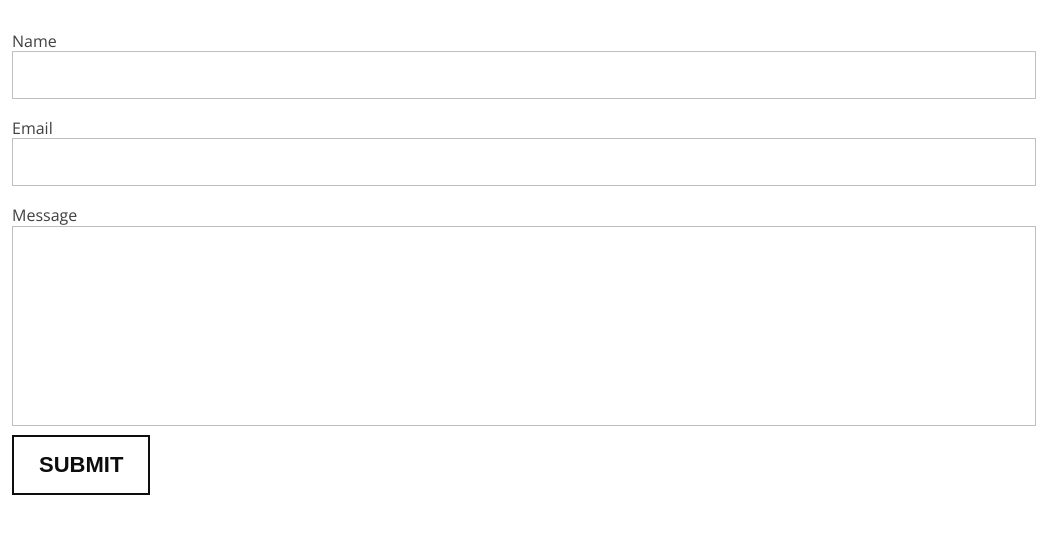
<ContactForm/> › throws an error when no email or message are provided
The image size is (1048, 547).
Type "John Doe" into the field labelled "Name" at (524, 75), box [12,51,1036,99]
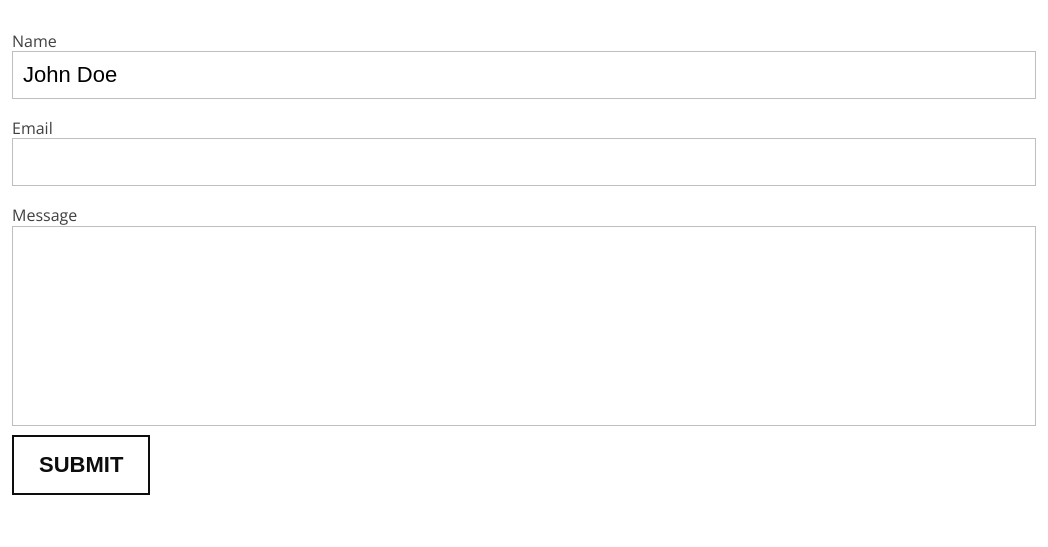
Click the button "Submit" at (81, 465), box [12,435,150,495]
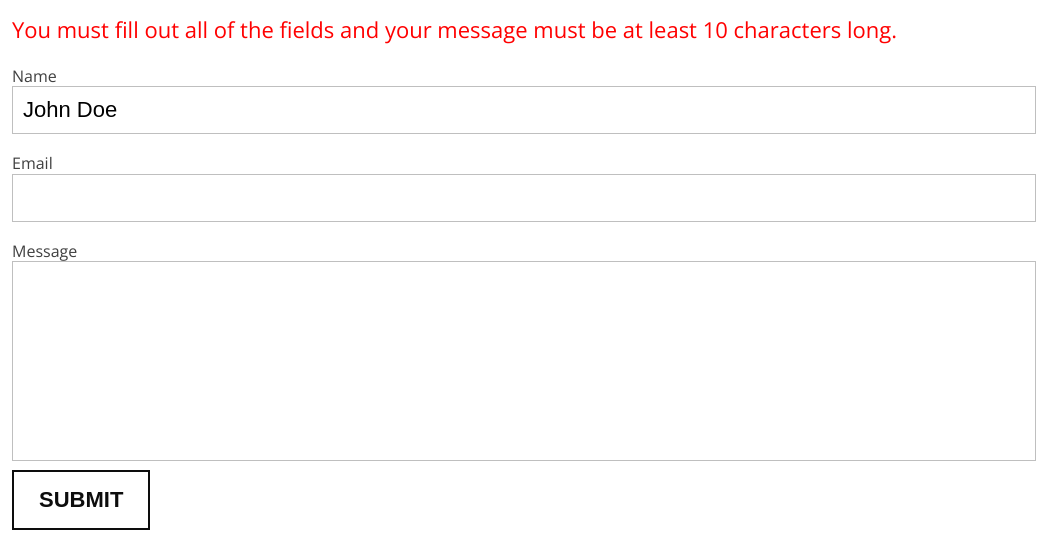
Check: the text "You must fill out" is shown, box [12,14,897,44]
